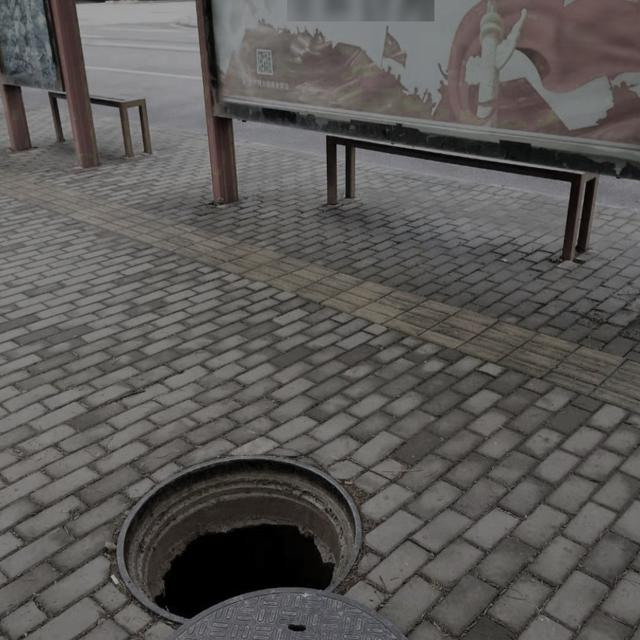uncovered: (113, 452, 442, 640)
